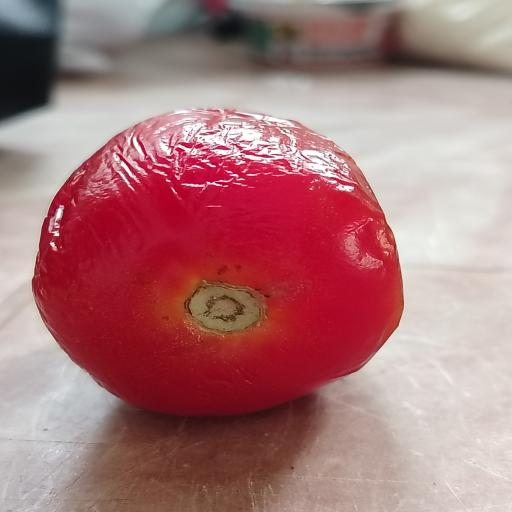spoiled: (33, 109, 403, 416)
